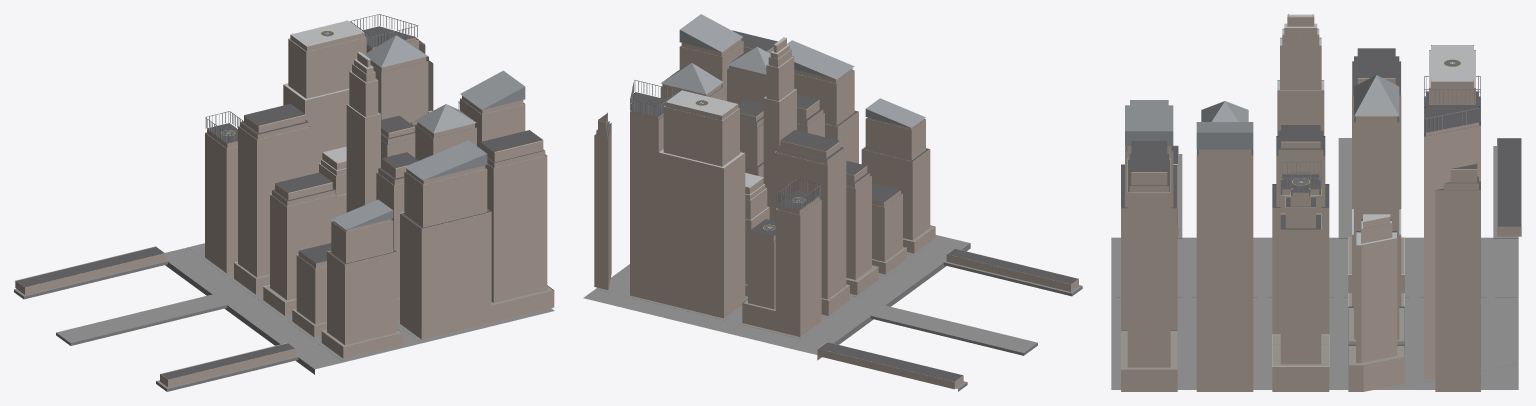
The picture shows the model from 3 angles, left to right: view 1: azimuth 30°, elevation 25°; view 2: azimuth 150°, elevation 25°; view 3: azimuth 270°, elevation 25°; orthographic projection. The views are drawn at different scales.
Parts seen in each view (by area): view 1: t03_facade, t03_roof, t03_ground, t03_detail; view 2: t03_facade, t03_roof, t03_ground, t03_detail; view 3: t03_facade, t03_ground, t03_roof, t03_detail.
Part boxes in pixels (x1=…): t03_facade: x1=15, y1=32, x2=554, y2=387; t03_roof: x1=17, y1=14, x2=552, y2=379; t03_ground: x1=14, y1=243, x2=554, y2=391; t03_detail: x1=16, y1=36, x2=553, y2=379; t03_facade: x1=594, y1=38, x2=1078, y2=389; t03_roof: x1=595, y1=14, x2=1077, y2=381; t03_ground: x1=583, y1=235, x2=1082, y2=391; t03_detail: x1=595, y1=41, x2=1078, y2=381; t03_facade: x1=1121, y1=17, x2=1521, y2=391; t03_ground: x1=1111, y1=138, x2=1518, y2=389; t03_roof: x1=1121, y1=14, x2=1521, y2=369; t03_detail: x1=1121, y1=28, x2=1521, y2=369.
Bounding box in the file's own units: 633 × 358 × 433.
